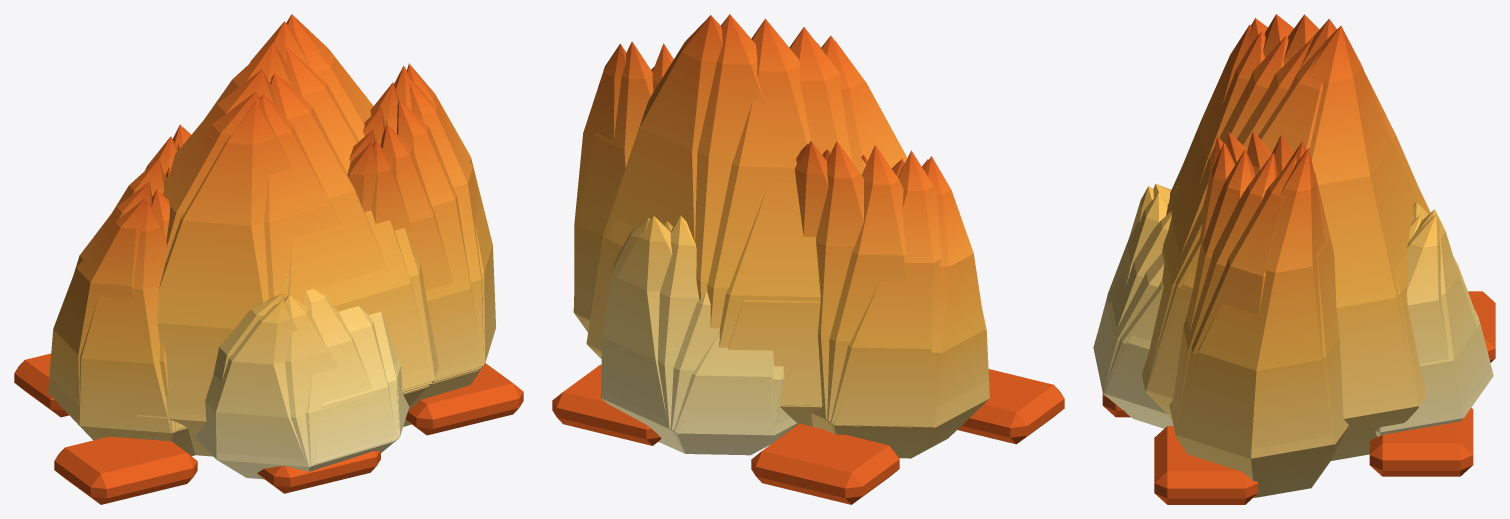
File: hearth_flame.glb
The picture shows the model from 3 angles, left to right: view 1: azimuth 30°, elevation 25°; view 2: azimuth 150°, elevation 25°; view 3: azimuth 270°, elevation 25°; orthographic projection. The views are drawn at different scales.
Visible parts, largest first — view 1: flame_07, flame_00, flame_04, flame_03, flame_05, flame_08, flame_09, flame_06, flame_02, flame_01; view 2: flame_00, flame_02, flame_03, flame_06, flame_04, flame_05, flame_01, flame_07, flame_09, flame_08; view 3: flame_02, flame_05, flame_00, flame_06, flame_07, flame_08, flame_03, flame_04, flame_09, flame_01.
Boxes of the visible parts, x1,y1,x2,y2 form: flame_07: (137,82,399,471); flame_00: (14,47,523,504); flame_04: (48,42,483,441); flame_03: (48,21,481,406); flame_05: (151,63,495,463); flame_08: (138,94,426,464); flame_09: (172,73,429,462); flame_06: (162,65,412,479); flame_02: (74,14,478,426); flame_01: (112,37,434,389); flame_00: (552,141,1064,504); flame_02: (586,15,941,454); flame_03: (586,14,987,434); flame_06: (573,35,906,406); flame_04: (588,18,989,458); flame_05: (574,27,904,354); flame_01: (676,145,906,455); flame_07: (575,41,907,438); flame_09: (604,40,828,453); flame_08: (578,42,820,429); flame_02: (1146,26,1421,460); flame_05: (1128,14,1425,497); flame_00: (1102,36,1495,504); flame_06: (1101,18,1448,497); flame_07: (1094,24,1490,480); flame_08: (1093,31,1493,486); flame_03: (1169,19,1429,453); flame_04: (1153,14,1430,453); flame_09: (1094,36,1493,418); flame_01: (1142,45,1323,417).
Size of the model in its own units: 0.7288 by 0.6033 by 0.5423.
